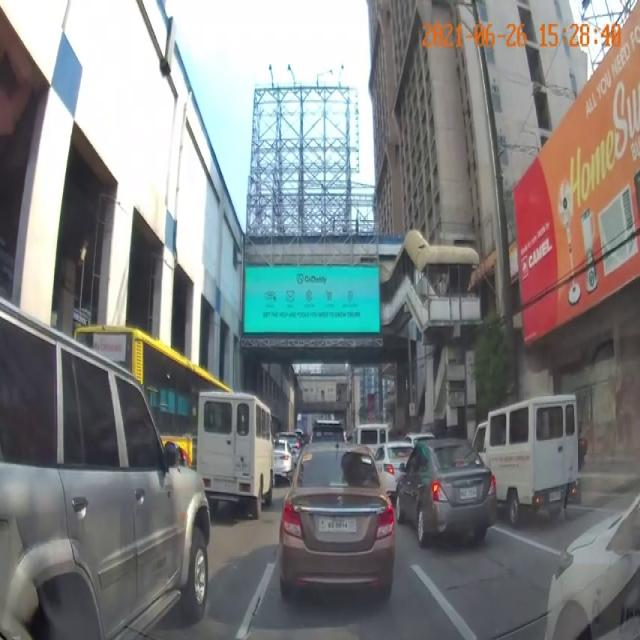car: (0, 320, 213, 615), (283, 439, 401, 610), (197, 384, 276, 528), (404, 436, 495, 540)
